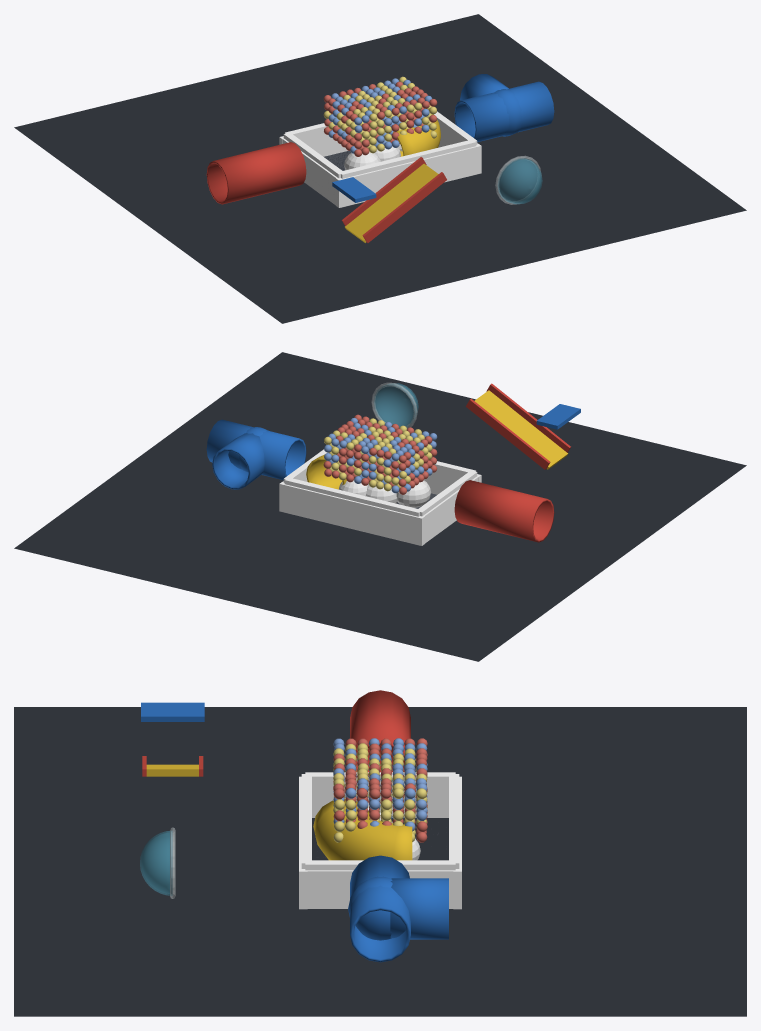
Rendered from ballpit.glb.
The picture shows the model from 3 angles, top to bottom: view 1: azimuth 30°, elevation 25°; view 2: azimuth 150°, elevation 25°; view 3: azimuth 270°, elevation 25°; orthographic projection. The views are drawn at different scales.
Visible parts, largest first — view 1: Display_Floor, 01_Straight_Crawl_Tube, T_Main, BallPit_Wall_1, Slide_Floor, Bubble_Acrylic_Dome, BallPit_PaddedRail_1, Slide_Rail_L, BallPit_Wall_3, 02_90_Degree_Corner_Tube, Slide_Rail_R, T_Branch (+4 smaller); view 2: Display_Floor, 01_Straight_Crawl_Tube, BallPit_Wall_0, T_Main, T_Branch, Slide_Floor, Bubble_Acrylic_Dome, BallPit_PaddedRail_0, Slide_Rail_R, BallPit_Wall_3, Slide_Rail_L, Slide_Top_Platform (+4 smaller); view 3: Display_Floor, T_Main, 02_90_Degree_Corner_Tube, T_Branch, 01_Straight_Crawl_Tube, BallPit_Wall_2, Bubble_Acrylic_Dome, BallPit_Wall_3, T_Center_Collar, Slide_Top_Platform, BallPit_PaddedRail_2, BallPit_PaddedRail_0 (+5 smaller).
Boxes of the visible parts, x1,y1,x2,y2 form: Display_Floor: (14, 14, 746, 323); 01_Straight_Crawl_Tube: (206, 142, 306, 204); T_Main: (454, 81, 554, 142); BallPit_Wall_1: (336, 143, 481, 207); Slide_Floor: (345, 163, 438, 242); Bubble_Acrylic_Dome: (498, 158, 542, 204); BallPit_PaddedRail_1: (339, 140, 476, 178); Slide_Rail_L: (362, 172, 446, 242); BallPit_Wall_3: (283, 139, 337, 205); 02_90_Degree_Corner_Tube: (393, 114, 440, 156); Slide_Rail_R: (342, 157, 426, 225); T_Branch: (460, 74, 508, 100); Display_Floor: (14, 352, 746, 661); 01_Straight_Crawl_Tube: (454, 480, 554, 542); BallPit_Wall_0: (279, 481, 424, 545); T_Main: (206, 419, 306, 480); T_Branch: (212, 433, 264, 489); Slide_Floor: (474, 390, 568, 469); Bubble_Acrylic_Dome: (374, 383, 418, 427); BallPit_PaddedRail_0: (284, 478, 421, 516); Slide_Rail_R: (466, 398, 550, 469); BallPit_Wall_3: (423, 477, 477, 543); Slide_Rail_L: (486, 383, 570, 452); Slide_Top_Platform: (536, 404, 580, 429); Display_Floor: (14, 707, 746, 1016); T_Main: (350, 855, 410, 962); 02_90_Degree_Corner_Tube: (313, 799, 412, 860); T_Branch: (390, 878, 448, 939); 01_Straight_Crawl_Tube: (350, 690, 410, 772); BallPit_Wall_2: (307, 870, 453, 908); Bubble_Acrylic_Dome: (140, 831, 172, 895); BallPit_Wall_3: (312, 783, 448, 817); T_Center_Collar: (348, 876, 392, 940); Slide_Top_Platform: (141, 702, 204, 721); BallPit_PaddedRail_2: (305, 860, 455, 870); BallPit_PaddedRail_0: (449, 774, 459, 868).
Bounding box in the file's own units: 30 × 4.74 × 30.
